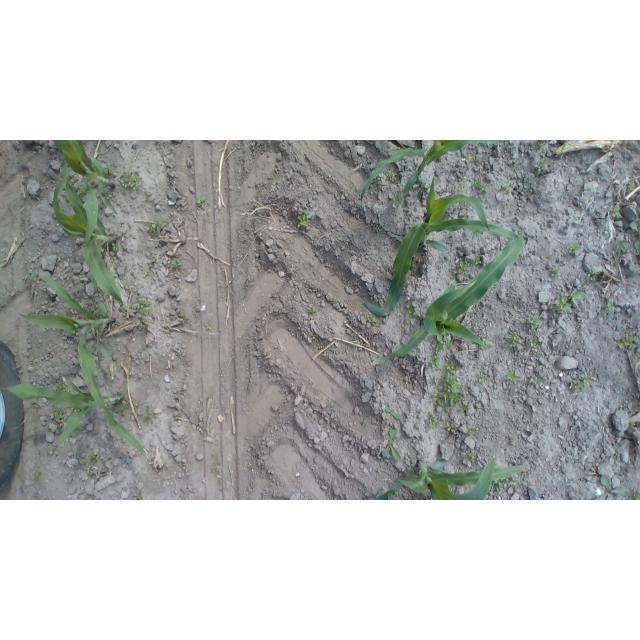Maize: (6, 272, 149, 462), (358, 175, 526, 319), (370, 222, 526, 366), (51, 154, 153, 315), (359, 142, 502, 215), (1, 374, 130, 450), (375, 454, 528, 500), (51, 141, 120, 216)
Weeds: (434, 362, 471, 414), (547, 288, 583, 315), (592, 474, 628, 500), (430, 334, 451, 369), (383, 428, 404, 462), (119, 168, 141, 191), (568, 373, 592, 393), (79, 449, 98, 474), (492, 475, 521, 491), (210, 452, 225, 481), (507, 326, 526, 347), (598, 304, 618, 323), (619, 334, 638, 352), (517, 172, 534, 192), (470, 178, 490, 194), (629, 221, 640, 250), (526, 314, 544, 331), (384, 406, 402, 422), (424, 412, 441, 428), (296, 211, 310, 230), (133, 301, 151, 315), (143, 406, 156, 424), (547, 264, 562, 278), (506, 372, 522, 385), (170, 261, 186, 274), (461, 451, 475, 465), (459, 260, 474, 273), (150, 220, 163, 233), (609, 205, 621, 219), (587, 267, 599, 280), (570, 243, 582, 255), (180, 313, 192, 325), (370, 223, 383, 234), (445, 420, 456, 433), (614, 240, 626, 251), (103, 163, 114, 175), (475, 373, 488, 383), (406, 300, 413, 318), (197, 198, 208, 209), (535, 161, 546, 171), (387, 170, 398, 180), (133, 490, 144, 500), (501, 184, 510, 196), (393, 192, 402, 204), (514, 157, 523, 168), (628, 182, 636, 193), (454, 185, 462, 196), (158, 142, 167, 151), (530, 339, 539, 348), (474, 256, 483, 264), (550, 250, 559, 258), (528, 377, 536, 385), (369, 317, 377, 324), (469, 428, 477, 435), (307, 307, 316, 313), (309, 333, 316, 340), (206, 325, 212, 330)
